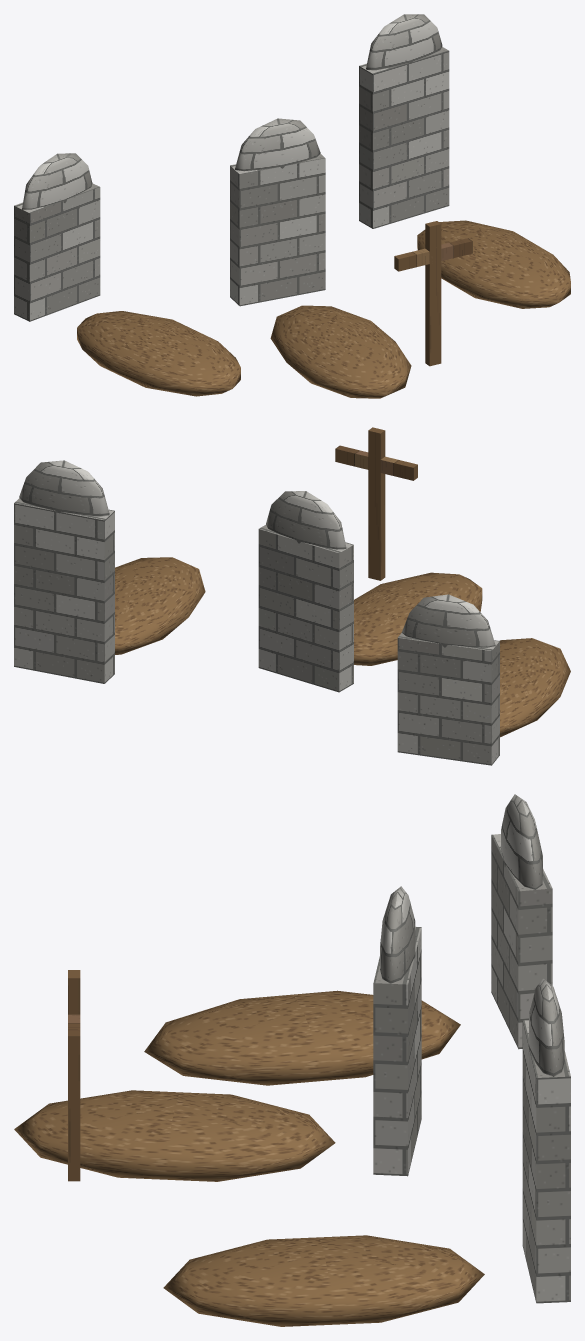
Rendered from graves.glb.
3 renders of one model, top to bottom at view 1: azimuth 30°, elevation 25°; view 2: azimuth 150°, elevation 25°; view 3: azimuth 270°, elevation 25°, orthographic. The views are drawn at different scales.
Parts seen in each view (by area): view 1: graves; view 2: graves; view 3: graves.
Part boxes in pixels (x1,y1,x2,y2): graves: [14, 14, 570, 398]; graves: [14, 427, 570, 765]; graves: [14, 794, 570, 1326].
Size of the model in its own units: 3.12 by 1.4 by 2.24.
3 materials, 3 textured.
